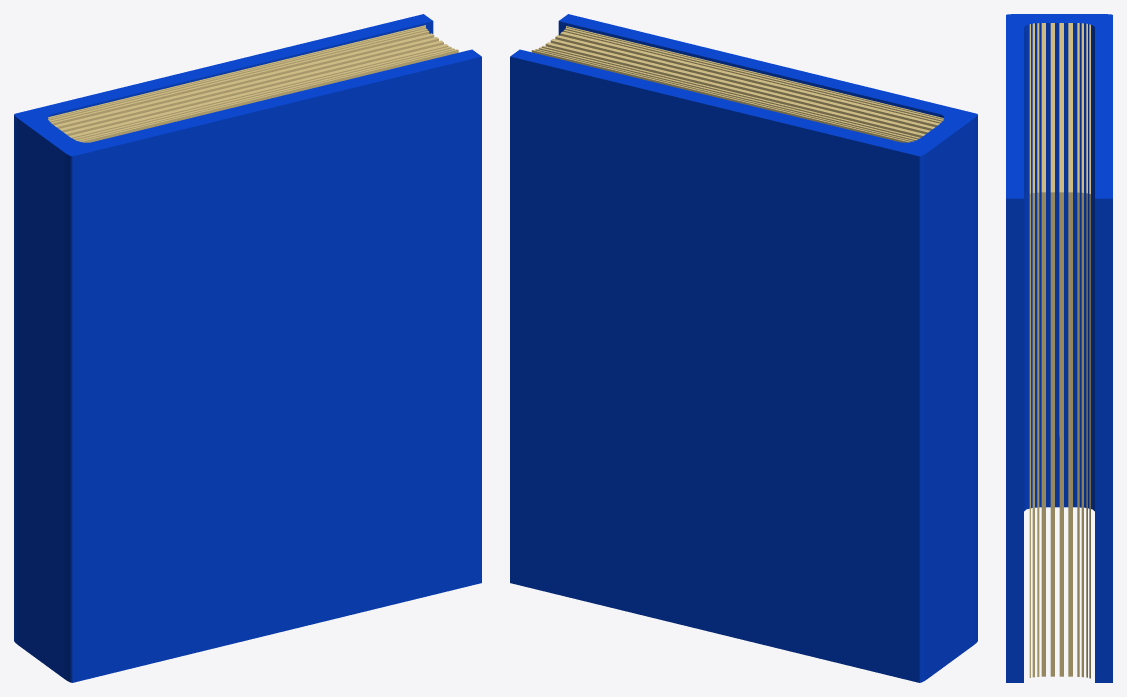
File: Blue Book.fbx
The picture shows the model from 3 angles, left to right: view 1: azimuth 30°, elevation 25°; view 2: azimuth 150°, elevation 25°; view 3: azimuth 270°, elevation 25°; orthographic projection. The views are drawn at different scales.
Parts seen in each view (by area): view 1: Cube; view 2: Cube; view 3: Cube.
Part boxes in pixels (x1,y1,x2,y2): Cube: [14, 14, 481, 682]; Cube: [510, 14, 977, 682]; Cube: [1006, 14, 1112, 682].
Size of the model in its own units: 818 by 1000 by 200.
